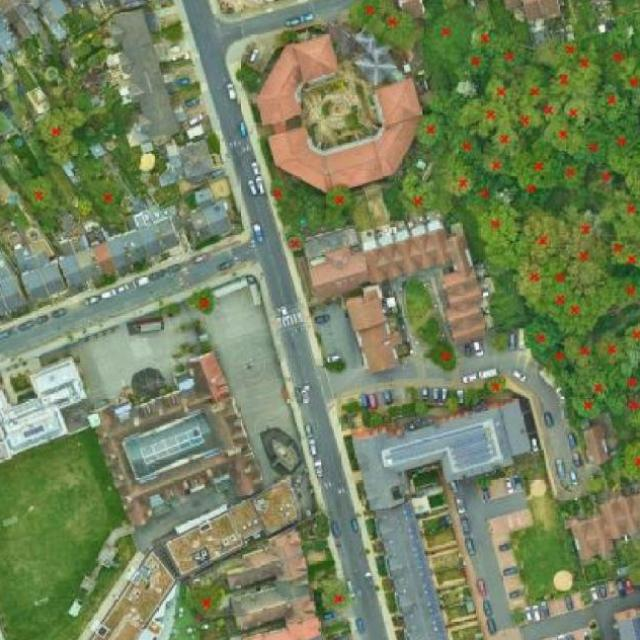tree: (32, 98, 94, 173), (554, 230, 612, 304), (424, 3, 482, 76), (508, 133, 572, 194), (517, 200, 575, 266), (82, 172, 138, 227), (470, 198, 524, 255), (452, 97, 514, 142), (14, 165, 66, 217), (567, 123, 622, 172), (585, 321, 629, 376), (397, 167, 442, 220), (604, 107, 640, 172), (316, 572, 365, 618), (589, 81, 636, 128), (436, 152, 481, 200), (516, 309, 558, 360), (179, 580, 231, 621), (490, 27, 535, 74), (558, 287, 597, 338), (513, 63, 552, 114), (508, 255, 546, 307), (371, 4, 423, 42), (556, 327, 598, 374), (407, 107, 451, 151), (485, 110, 526, 157), (464, 171, 504, 219), (342, 0, 406, 30), (181, 282, 225, 324), (481, 238, 527, 278), (424, 332, 465, 376), (601, 265, 640, 310), (478, 71, 518, 114), (575, 40, 607, 91), (610, 189, 640, 243), (565, 388, 607, 424), (548, 58, 582, 102), (584, 365, 622, 404), (556, 153, 593, 193), (559, 89, 592, 133), (600, 32, 633, 76), (323, 178, 360, 216), (465, 17, 502, 55), (612, 384, 640, 434), (510, 96, 550, 131), (615, 47, 640, 102), (604, 237, 640, 275), (567, 206, 606, 241), (449, 125, 478, 172), (624, 124, 640, 208), (480, 141, 515, 179), (536, 339, 573, 374), (617, 436, 640, 492), (511, 183, 558, 210), (461, 44, 495, 81), (260, 174, 297, 206), (554, 30, 585, 67), (477, 370, 513, 401), (281, 226, 313, 259), (230, 57, 262, 88), (589, 162, 619, 194), (84, 43, 117, 71), (615, 320, 640, 355), (430, 63, 456, 92), (275, 24, 305, 49), (366, 405, 389, 433), (204, 128, 225, 157), (40, 62, 62, 87), (442, 393, 464, 416), (413, 397, 435, 420), (89, 27, 109, 50), (625, 563, 640, 591)
